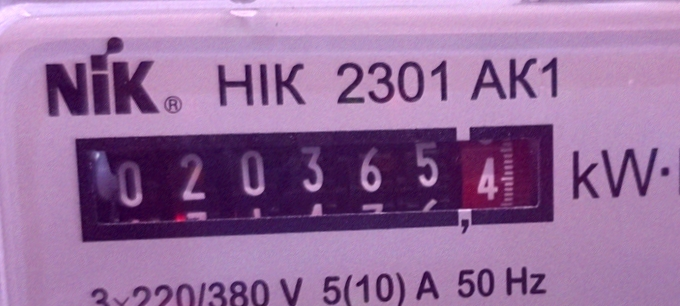0: (112, 153, 146, 209), (237, 146, 268, 196)
2: (175, 148, 207, 200)
3: (296, 142, 326, 192)
4: (473, 151, 498, 200)
5: (413, 139, 441, 186)
6: (355, 141, 383, 192)
screen: (60, 103, 572, 257)
